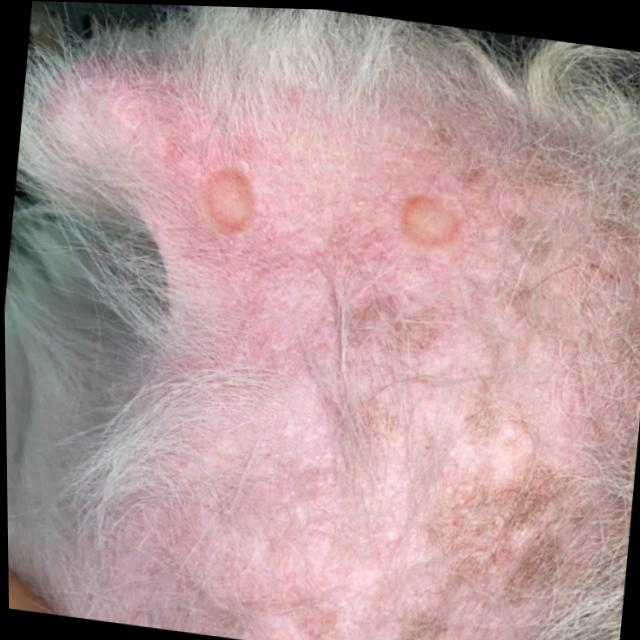ringworm: (347, 146, 491, 271), (172, 149, 274, 271)
